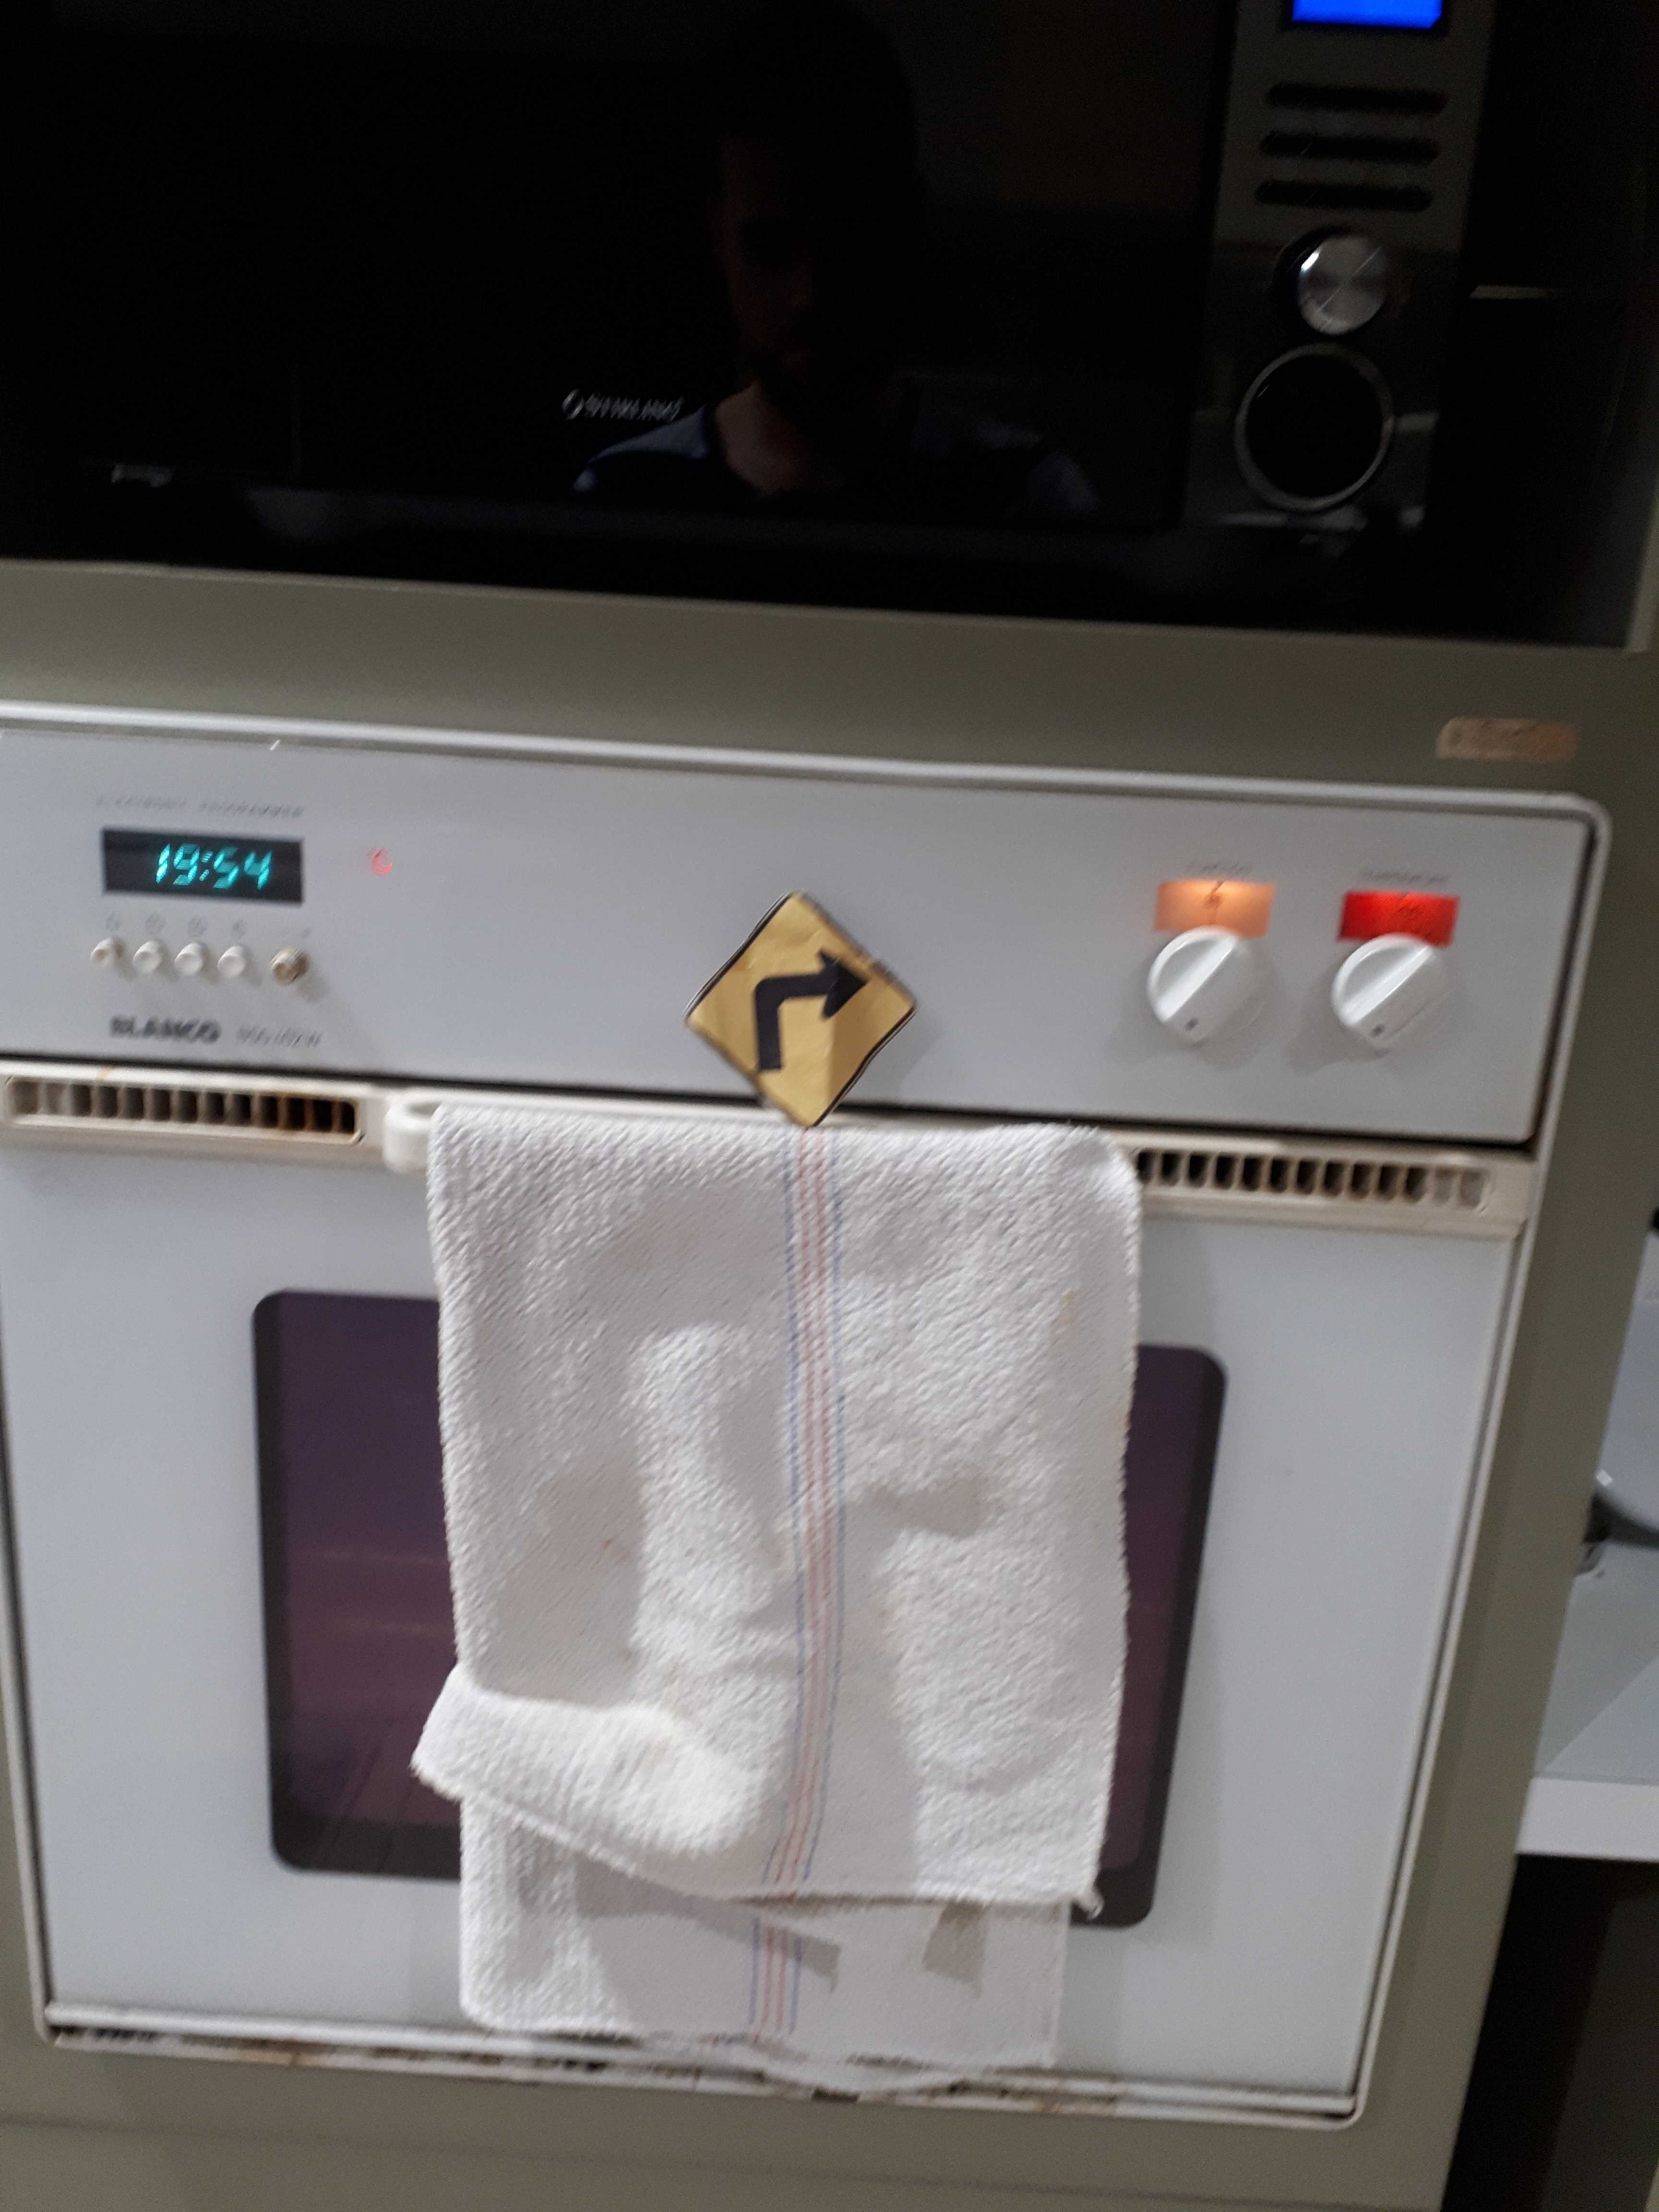right: (687, 866, 1014, 1238), (716, 918, 892, 1097), (709, 939, 896, 1028), (789, 918, 878, 1028)
